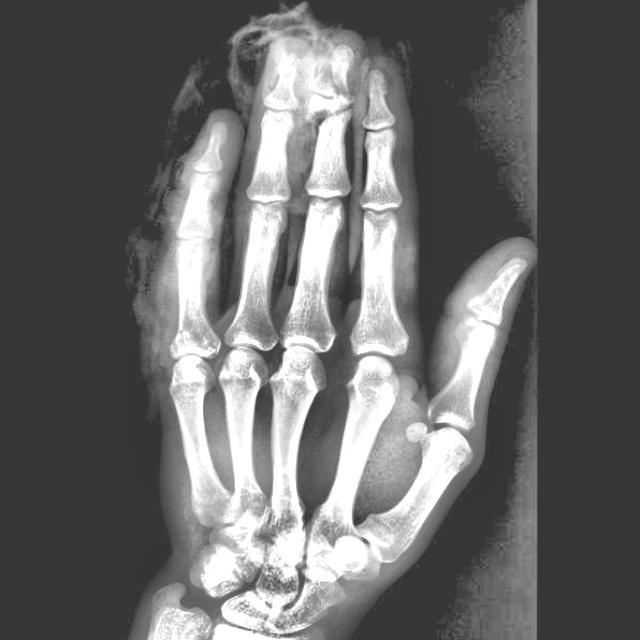fracture: (303, 36, 360, 118)
